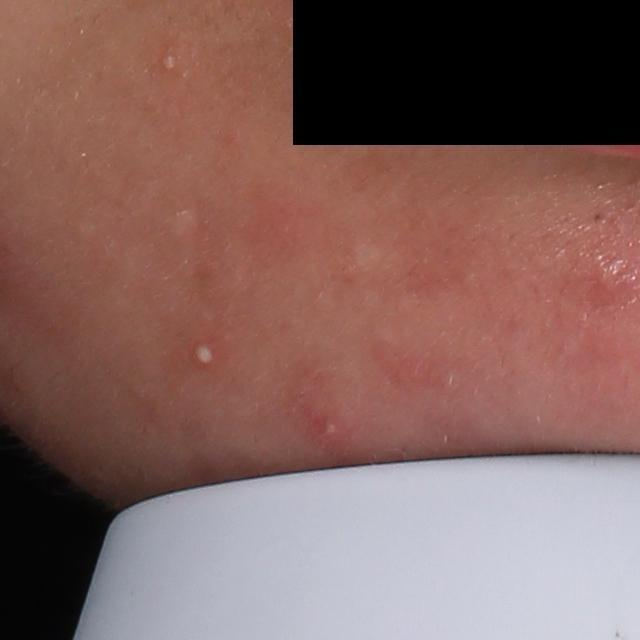hypertrophic_scar: (164, 202, 203, 259), (343, 236, 393, 277)
pustule: (187, 332, 225, 375)
